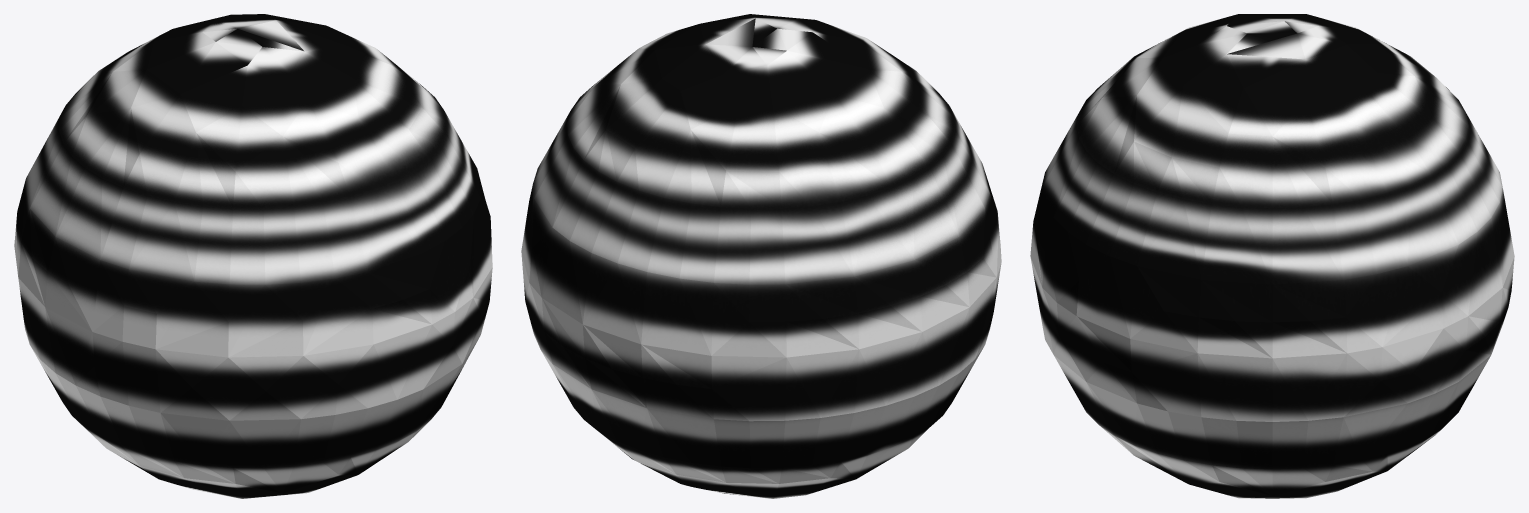
Rendered from SM_Env_Planet_13.fbx.
3 renders of one model, left to right at view 1: azimuth 30°, elevation 25°; view 2: azimuth 150°, elevation 25°; view 3: azimuth 270°, elevation 25°, orthographic.
Parts seen in each view (by area): view 1: SM_Env_Planet_13_LOD0; view 2: SM_Env_Planet_13_LOD0; view 3: SM_Env_Planet_13_LOD0.
Boxes of the visible parts, box(x1,y1,x2,y2) form: SM_Env_Planet_13_LOD0: box(14, 14, 492, 498); SM_Env_Planet_13_LOD0: box(521, 14, 1001, 498); SM_Env_Planet_13_LOD0: box(1030, 14, 1514, 498).
Size of the model in its own units: 48563 by 48563 by 48912.
1 material, 1 textured.
